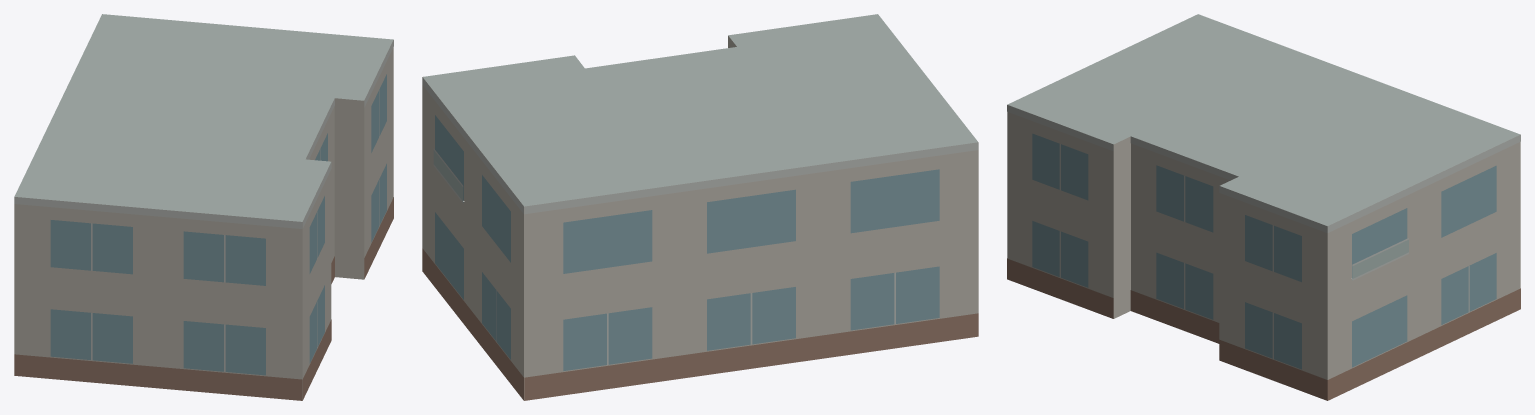
Rendered from survey-upis-32722086.glb.
3 renders of one model, left to right at view 1: azimuth 30°, elevation 25°; view 2: azimuth 150°, elevation 25°; view 3: azimuth 270°, elevation 25°, orthographic. The views are drawn at different scales.
Visible parts, largest first — view 1: survey-upis-32722086.tmp; view 2: survey-upis-32722086.tmp; view 3: survey-upis-32722086.tmp.
Boxes of the visible parts, bbox=[...] form: survey-upis-32722086.tmp: bbox=[14, 14, 393, 400]; survey-upis-32722086.tmp: bbox=[422, 14, 978, 400]; survey-upis-32722086.tmp: bbox=[1007, 14, 1520, 400].
Bounding box in the file's own units: 15.91 × 6.1 × 16.27.
